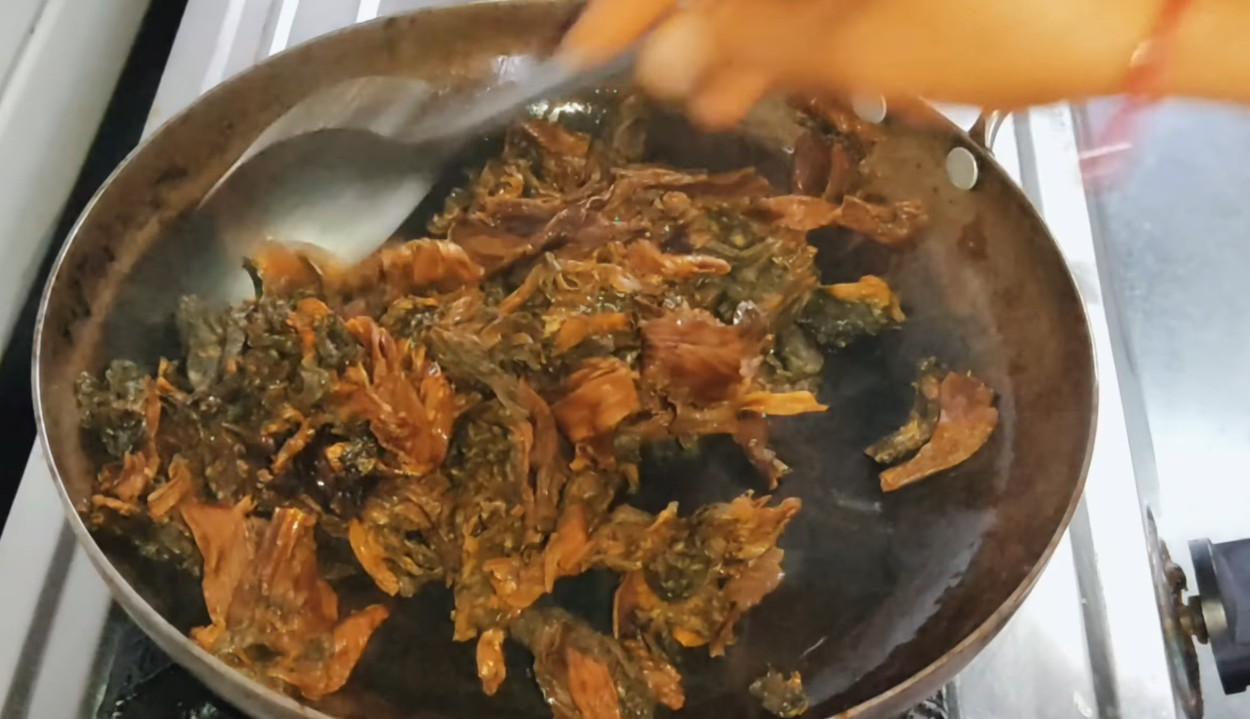gundruk: (157, 148, 912, 670)
